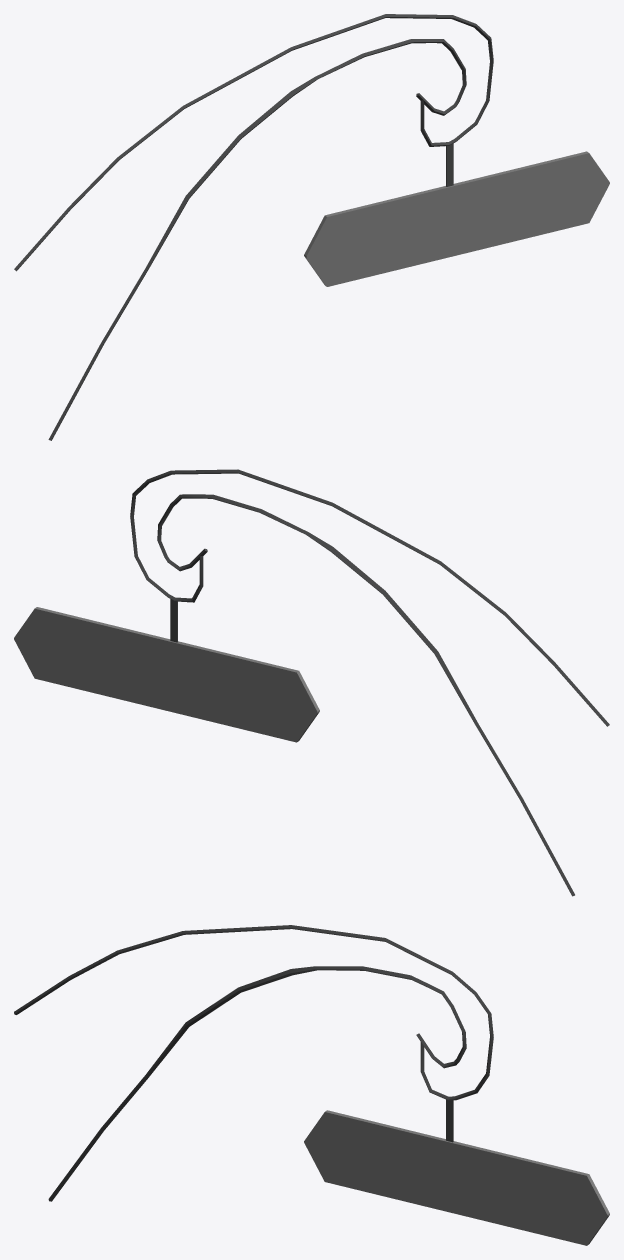
File: SM_storesign_04.fbx
3 renders of one model, top to bottom at view 1: azimuth 30°, elevation 25°; view 2: azimuth 150°, elevation 25°; view 3: azimuth 330°, elevation 25°, orthographic.
Parts seen in each view (by area): view 1: Object092; view 2: Object092; view 3: Object092.
Boxes of the visible parts, x1,y1,x2,y2 form: Object092: [14, 14, 609, 440]; Object092: [14, 469, 609, 896]; Object092: [14, 925, 609, 1245].
Size of the model in its own units: 84.57 by 0.8355 by 46.9.
